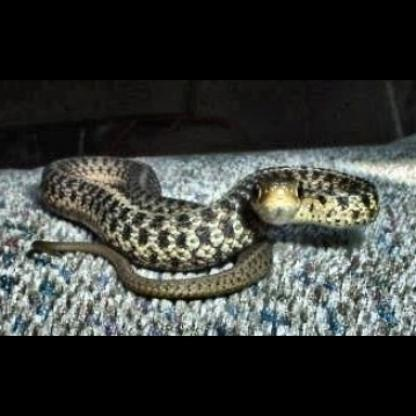Snake: (30, 156, 413, 300)
